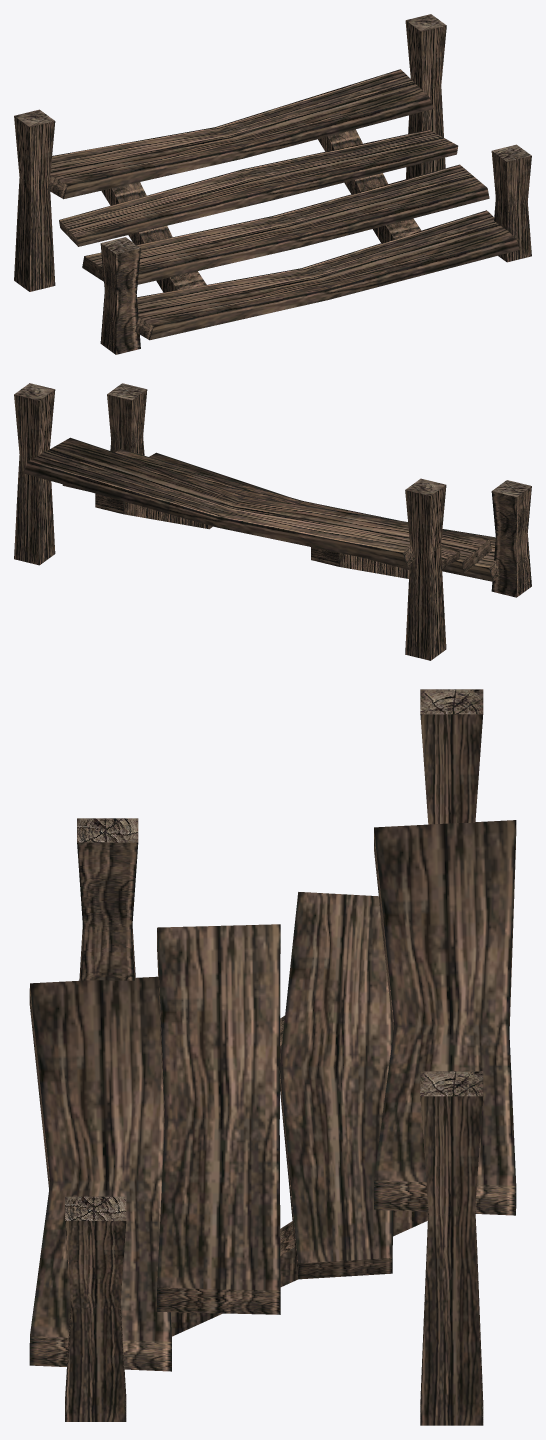
Rendered from CB_LOOKOUT_STAIRCASE.fbx.
The picture shows the model from 3 angles, top to bottom: view 1: azimuth 30°, elevation 25°; view 2: azimuth 150°, elevation 25°; view 3: azimuth 270°, elevation 25°; orthographic projection. The views are drawn at different scales.
Parts seen in each view (by area): view 1: CB_LOOKOUT_STAIRCASE; view 2: CB_LOOKOUT_STAIRCASE; view 3: CB_LOOKOUT_STAIRCASE.
Part boxes in pixels (<box>): CB_LOOKOUT_STAIRCASE: <box>14,14,531,354</box>; CB_LOOKOUT_STAIRCASE: <box>14,383,531,660</box>; CB_LOOKOUT_STAIRCASE: <box>29,689,516,1425</box>.
Bounding box in the file's own units: 27381 × 10337 × 13842.
Materials: 2 (2 with a texture image).
